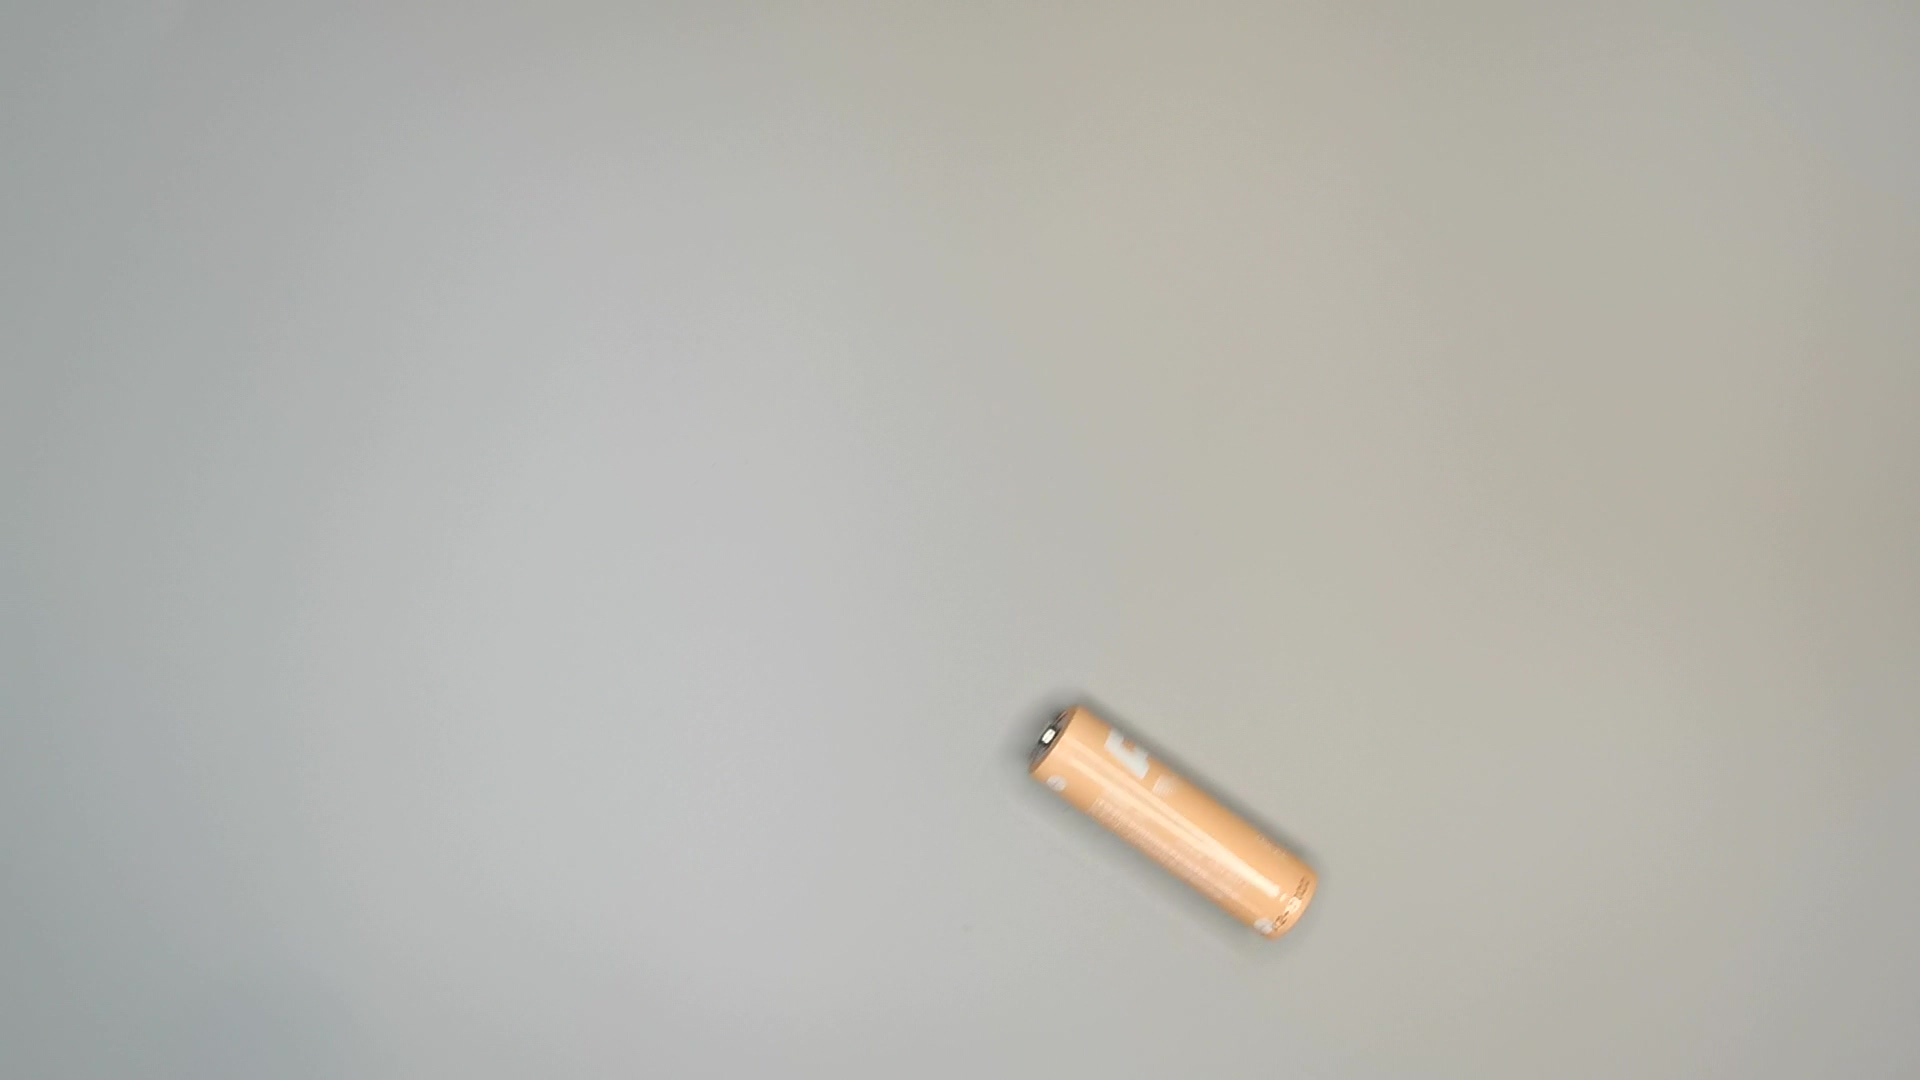battery: (1014, 698, 1331, 945)
